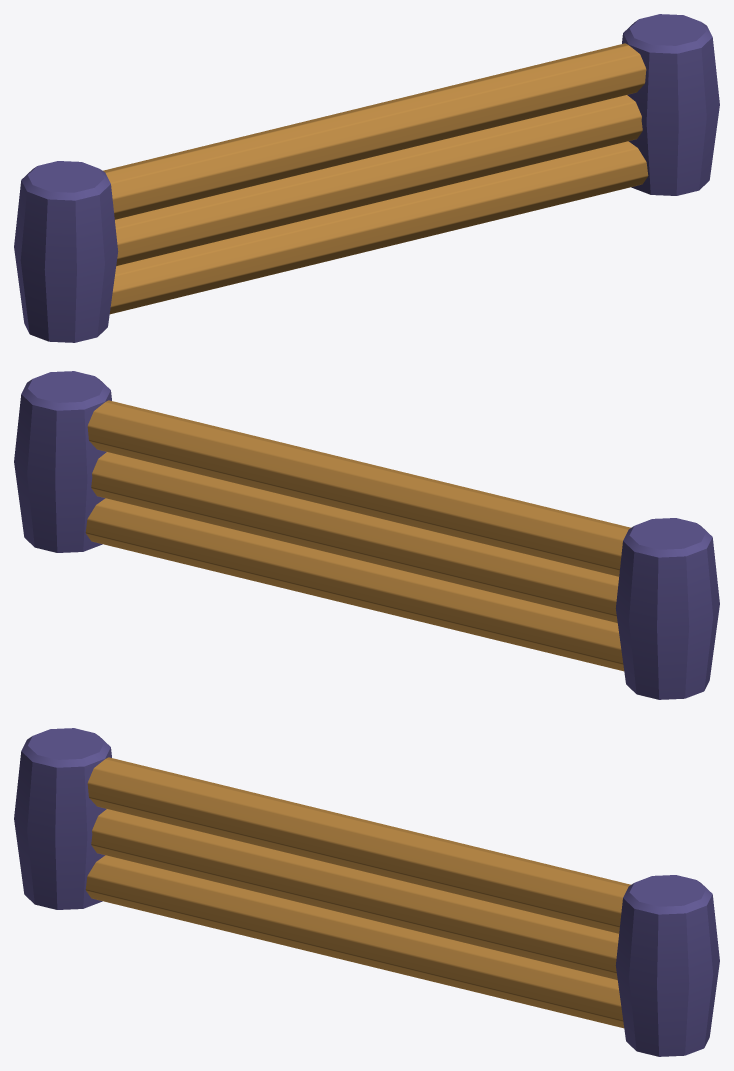
Rendered from Fence 1.fbx.
3 renders of one model, top to bottom at view 1: azimuth 30°, elevation 25°; view 2: azimuth 150°, elevation 25°; view 3: azimuth 330°, elevation 25°, orthographic.
Parts seen in each view (by area): view 1: pCylinder8; view 2: pCylinder8; view 3: pCylinder8.
Part boxes in pixels (x1,y1,x2,y2): pCylinder8: (14,14,719,342); pCylinder8: (14,371,719,699); pCylinder8: (14,728,719,1056).
Bounding box in the file's own units: 501 × 103 × 62.39.
